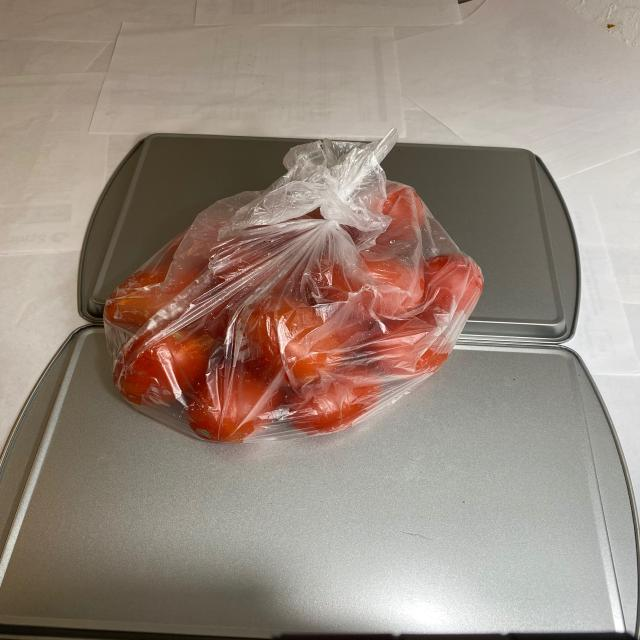tomato: (104, 187, 480, 454)
